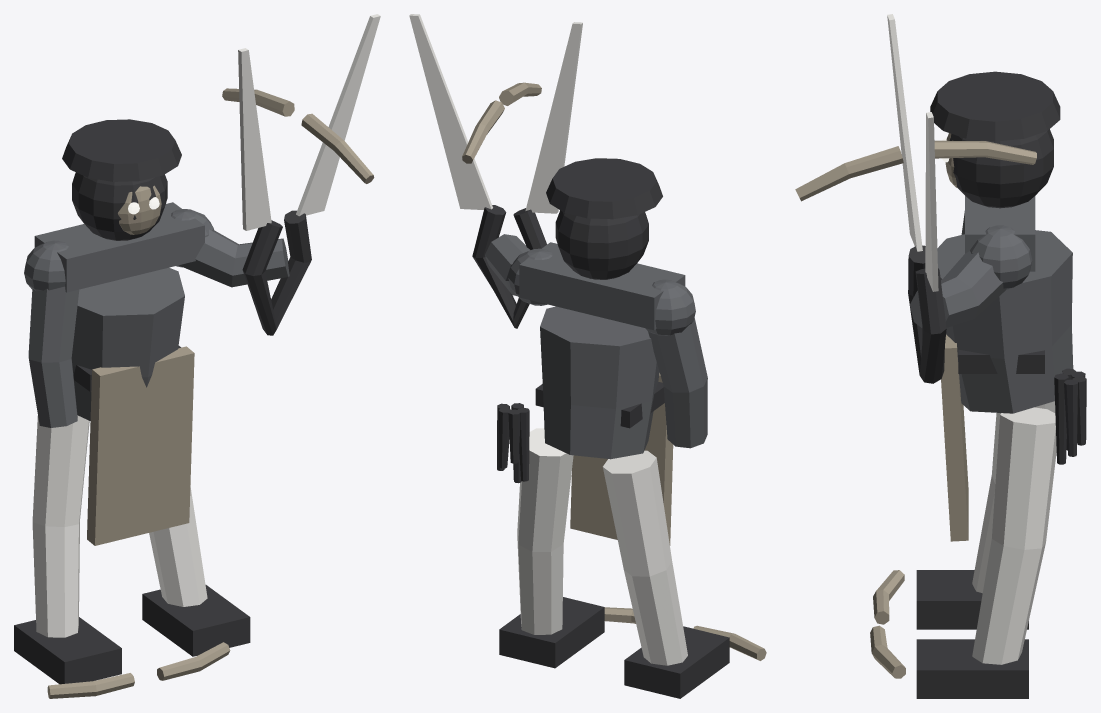
File: shearman.glb
3 views of the same model, side by side, from view 1: azimuth 30°, elevation 25°; view 2: azimuth 150°, elevation 25°; view 3: azimuth 270°, elevation 25° (orthographic). The views are drawn at different scales.
Parts seen in each view (by area): view 1: shearman_body, shearman_dark, shearman_bone; view 2: shearman_body, shearman_bone, shearman_dark; view 3: shearman_body, shearman_dark, shearman_bone.
Boxes of the visible parts, x1=… form: shearman_body: x1=24, y1=88, x2=374, y2=698; shearman_dark: x1=14, y1=119, x2=311, y2=684; shearman_bone: x1=32, y1=14, x2=380, y2=637; shearman_body: x1=462, y1=82, x2=766, y2=660; shearman_bone: x1=409, y1=14, x2=687, y2=665; shearman_dark: x1=472, y1=158, x2=729, y2=698; shearman_body: x1=795, y1=133, x2=1073, y2=678; shearman_dark: x1=908, y1=71, x2=1086, y2=698; shearman_bone: x1=887, y1=14, x2=1056, y2=664.
Size of the model in its own units: 1.5 by 2.51 by 0.9862.
